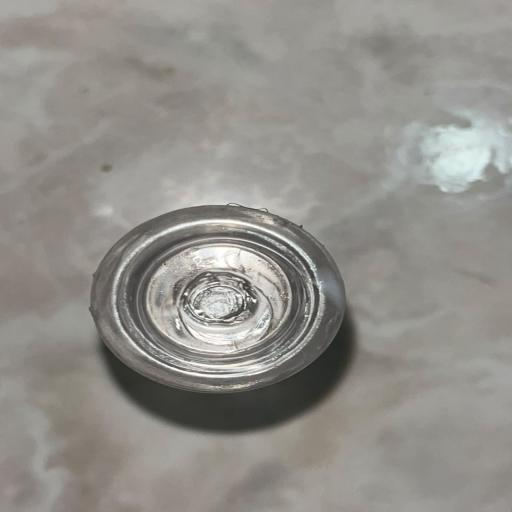PET: (49, 157, 396, 466)
